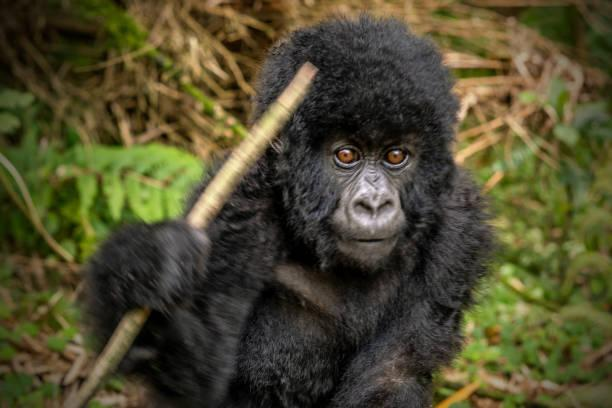goriile_montagne: (86, 0, 505, 408)
